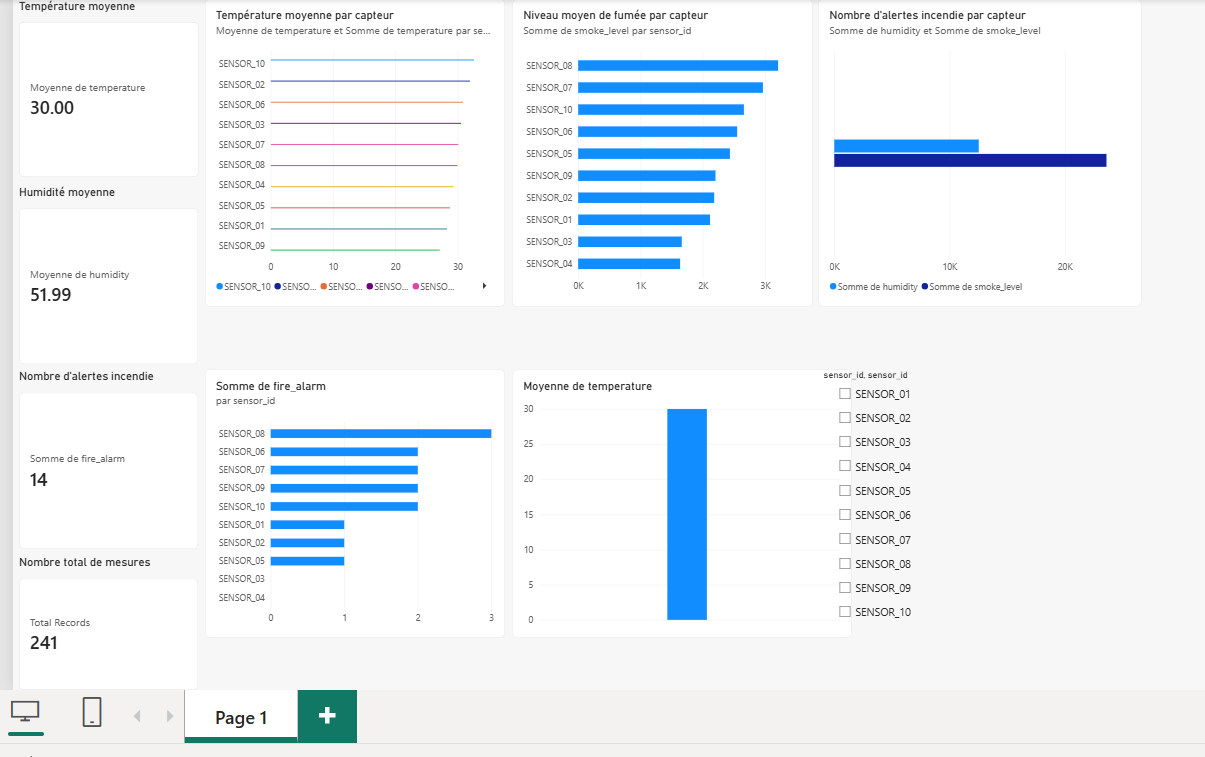

What the dashboard file says about the page in this screenshot:
{"tool":"powerbi","page":{"name":"Page 1","canvas":[1920,1080],"ordinal":0},"visuals":[{"type":"cardVisual","title":"Température moyenne","fields":{"Data":["Avg(tp03_fire_monitoring_sample.temperature)"]},"box":[9.4,0,281.3,279],"z":0},{"type":"cardVisual","title":"Humidité moyenne","fields":{"Data":["Avg(tp03_fire_monitoring_sample.humidity)"]},"box":[10,290,280,280],"z":1},{"type":"cardVisual","title":"Nombre d''alertes incendie","fields":{"Data":["Sum(tp03_fire_monitoring_sample.fire_alarm)"]},"box":[10,580,280,280],"z":2},{"type":"cardVisual","title":"Nombre total de mesures","fields":{"Data":["tp03_fire_monitoring_sample.Total Records","tp03_fire_monitoring_sample.Total Records"]},"box":[9.4,869.8,280,210],"z":3},{"type":"clusteredBarChart","title":"Température moyenne par capteur","fields":{"Category":["tp03_fire_monitoring_sample.sensor_id"],"Series":["tp03_fire_monitoring_sample.sensor_id"],"Y":["Avg(tp03_fire_monitoring_sample.temperature)"]},"box":[300.8,0,469,480.8],"z":4},{"type":"clusteredBarChart","title":"Nombre d''alertes incendie par capteur","fields":{"Y":["Sum(tp03_fire_monitoring_sample.humidity)","Sum(tp03_fire_monitoring_sample.smoke_level)"]},"box":[1260,0,504.5,480.8],"z":8},{"type":"clusteredBarChart","title":"Niveau moyen de fumée par capteur","fields":{"Category":["tp03_fire_monitoring_sample.sensor_id"],"Y":["Sum(tp03_fire_monitoring_sample.smoke_level)"]},"box":[780.7,0,469,481],"z":9},{"type":"clusteredBarChart","fields":{"Category":["tp03_fire_monitoring_sample.sensor_id"],"Y":["Sum(tp03_fire_monitoring_sample.fire_alarm)"]},"box":[300.1,579.1,468.9,419.7],"z":10},{"type":"lineClusteredColumnComboChart","fields":{"Category":["tp03_fire_monitoring_sample.timestamp.Variation.Hiérarchie de dates.Année"],"Y":["Avg(tp03_fire_monitoring_sample.temperature)"]},"box":[780.7,579.1,529.9,419.7],"z":11},{"type":"slicer","fields":{"Values":["tp03_fire_monitoring_sample.sensor_id","tp03_fire_monitoring_sample.sensor_id"]},"box":[1259,579.1,227.4,419.7],"z":12}]}

Visuals, with their boxes on the page's 1920x1080 design canvas (x1, y1, x2, y2). These are canvas units, not pixel positions in the 1205x757 screenshot, which may show the page scaled, cropped or inside an application window:
"Température moyenne" cardVisual: [x1=9, y1=0, x2=291, y2=279]
"Humidité moyenne" cardVisual: [x1=10, y1=290, x2=290, y2=570]
"Nombre d''alertes incendie" cardVisual: [x1=10, y1=580, x2=290, y2=860]
"Nombre total de mesures" cardVisual: [x1=9, y1=870, x2=289, y2=1080]
"Température moyenne par capteur" clusteredBarChart: [x1=301, y1=0, x2=770, y2=481]
"Nombre d''alertes incendie par capteur" clusteredBarChart: [x1=1260, y1=0, x2=1764, y2=481]
"Niveau moyen de fumée par capteur" clusteredBarChart: [x1=781, y1=0, x2=1250, y2=481]
clusteredBarChart - tp03_fire_monitoring_sample.sensor_id x Sum(tp03_fire_monitoring_sample.fire_alarm): [x1=300, y1=579, x2=769, y2=999]
lineClusteredColumnComboChart - tp03_fire_monitoring_sample.timestamp.Variation.Hiérarchie de dates.Année x Avg(tp03_fire_monitoring_sample.temperature): [x1=781, y1=579, x2=1311, y2=999]
slicer - tp03_fire_monitoring_sample.sensor_id x tp03_fire_monitoring_sample.sensor_id: [x1=1259, y1=579, x2=1486, y2=999]
